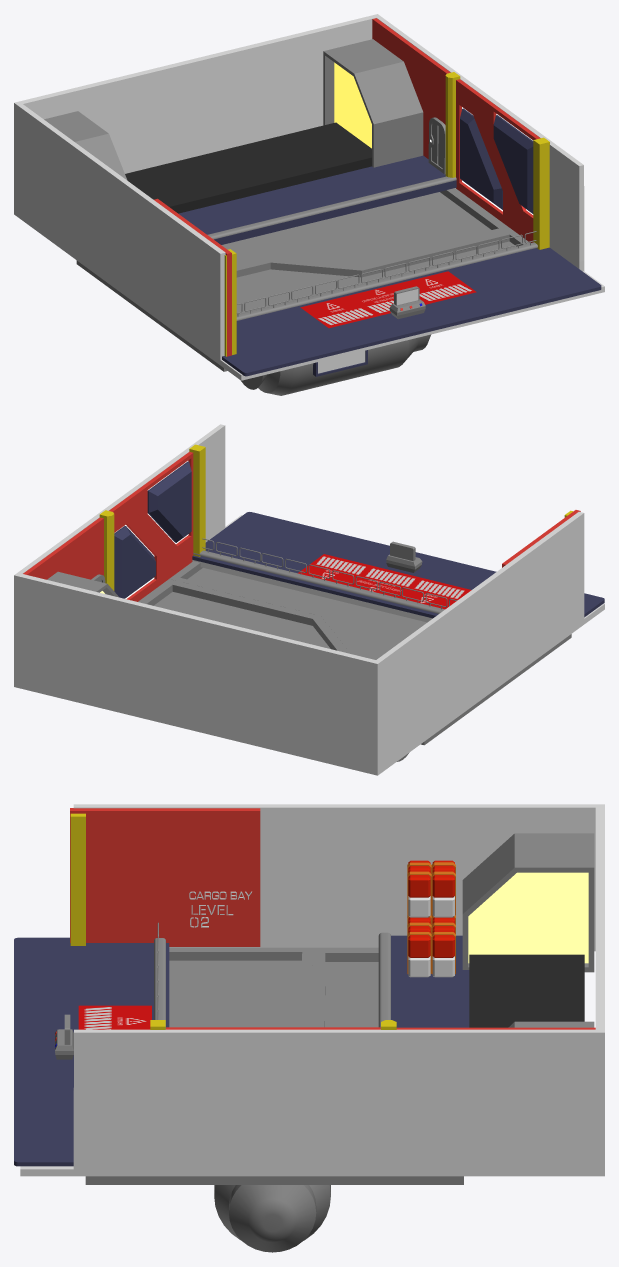
Rendered from Level03.glb.
3 views of the same model, one above another, from view 1: azimuth 30°, elevation 25°; view 2: azimuth 150°, elevation 25°; view 3: azimuth 270°, elevation 25° (orthographic). The views are drawn at different scales.
Parts seen in each view (by area): view 1: baselv2, Cube.186, porteNord, Cube.185, Cube.201, porteSud, Cube.248, Cube.291, vaisseauxLv2, Cube.252, Cube.357, Cube.356 (+13 smaller); view 2: baselv2, Cube.186, porteSud, porteNord, Cube.291, Cube.252, Cube.357, Cube.356, Cube.187, Cube.290, Plane.075, Plane.076 (+3 smaller); view 3: baselv2, Cube.054, Cube.186, porteSud, Cube.250, Cube.185, porteNord, Cube.200, vaisseauxLv2, Cube.201, Cube.190, Plane.073 (+4 smaller).
Part boxes in pixels (x1,y1,x2,y2): baselv2: [14, 14, 604, 380]; Cube.186: [222, 247, 601, 376]; porteNord: [76, 188, 511, 306]; Cube.185: [125, 122, 371, 213]; Cube.201: [179, 155, 456, 244]; porteSud: [135, 230, 529, 371]; Cube.248: [323, 39, 423, 167]; Cube.291: [456, 79, 540, 242]; vaisseauxLv2: [241, 334, 431, 395]; Cube.252: [372, 18, 450, 158]; Cube.357: [493, 115, 533, 213]; Cube.356: [460, 108, 502, 209]; baselv2: [14, 424, 604, 775]; Cube.186: [192, 512, 604, 618]; porteSud: [169, 561, 571, 701]; porteNord: [138, 579, 483, 745]; Cube.291: [109, 452, 193, 601]; Cube.252: [23, 517, 103, 579]; Cube.357: [147, 461, 191, 542]; Cube.356: [114, 526, 155, 598]; Cube.187: [193, 550, 444, 613]; Cube.290: [189, 444, 205, 556]; Plane.075: [298, 554, 372, 585]; Plane.076: [347, 566, 421, 597]; baselv2: [20, 804, 604, 1176]; Cube.054: [70, 808, 260, 946]; Cube.186: [14, 937, 169, 1166]; porteSud: [85, 947, 312, 1184]; Cube.250: [468, 872, 588, 963]; Cube.185: [469, 954, 584, 1027]; porteNord: [232, 947, 463, 1184]; Cube.200: [462, 833, 594, 972]; vaisseauxLv2: [214, 1185, 330, 1252]; Cube.201: [391, 935, 469, 1027]; Cube.190: [70, 813, 85, 945]; Plane.073: [78, 1005, 151, 1029].
Size of the model in its own units: 69.49 by 41.9 by 76.02.
15 materials, 3 textured.
